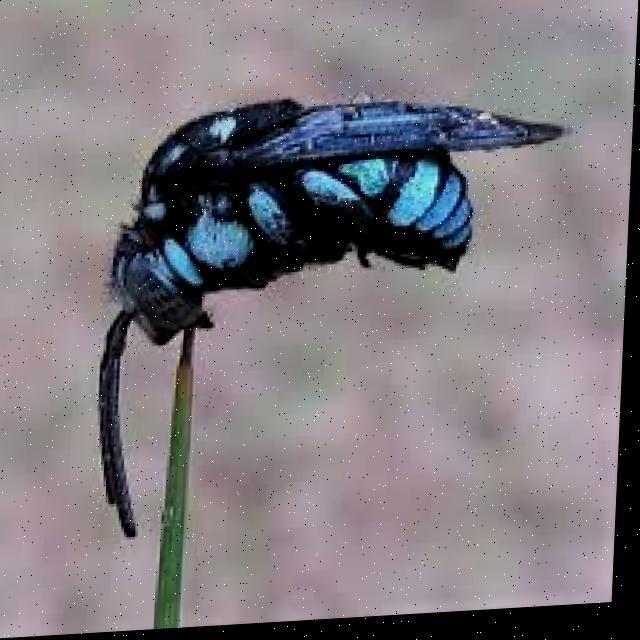Thyreus: (72, 64, 566, 545)
